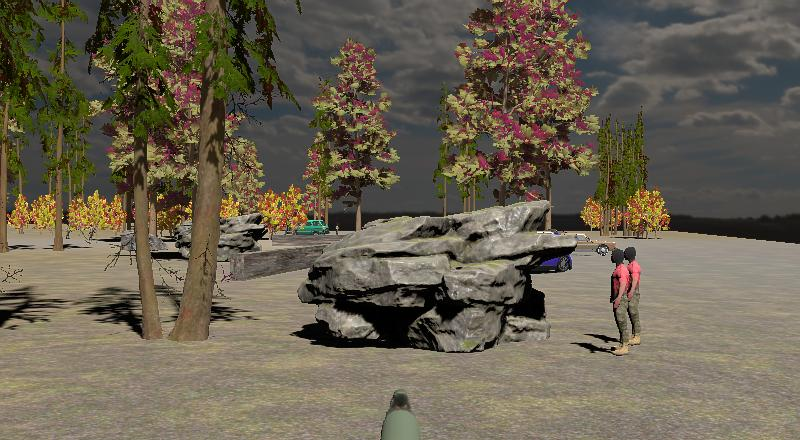Human: (607, 248, 630, 356), (620, 245, 643, 349)
car: (551, 232, 618, 256)
